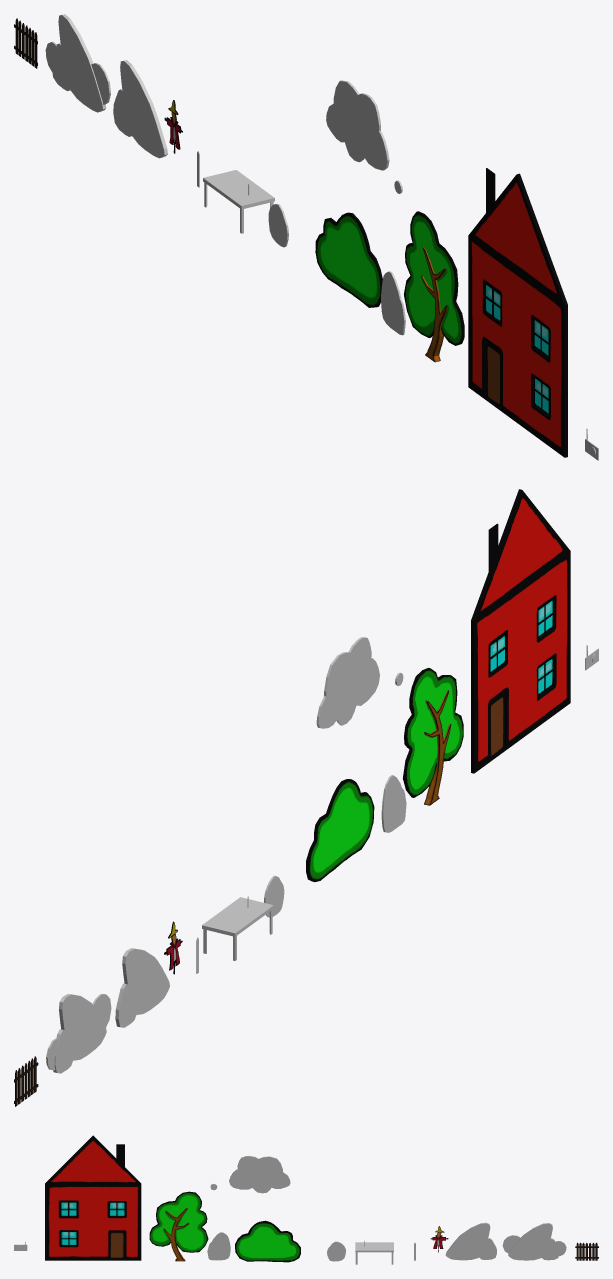
File: paper_world.fbx
3 views of the same model, one above another, from view 1: azimuth 30°, elevation 25°; view 2: azimuth 150°, elevation 25°; view 3: azimuth 270°, elevation 25° (orthographic). The views are drawn at different scales.
Parts seen in each view (by area): view 1: Plane.005, Plane.001, Plane.002, Plane.004, Rock_bush1, Stones_3, Cube.001, Plane.003, Cube, Plot, Plane.006; view 2: Plane.005, Plane.001, Plane.002, Plane.004, Rock_bush1, Stones_3, Cube.001, Plane.003, Cube, Plot; view 3: Plane.005, Plane.001, Plane.002, Plane.004, Rock_bush1, Stones_3, Plane.003, Cube.001, Cube, Plot, Plane.006, Plane.009.
Part boxes in pixels (x1=…): Plane.005: x1=468, y1=168, x2=567, y2=457; Plane.001: x1=404, y1=211, x2=464, y2=345; Plane.002: x1=315, y1=212, x2=382, y2=307; Plane.004: x1=326, y1=80, x2=389, y2=170; Rock_bush1: x1=45, y1=14, x2=110, y2=112; Stones_3: x1=113, y1=60, x2=167, y2=158; Cube.001: x1=203, y1=170, x2=274, y2=233; Plane.003: x1=381, y1=271, x2=405, y2=335; Cube: x1=421, y1=247, x2=448, y2=362; Plot: x1=14, y1=18, x2=37, y2=68; Plane.006: x1=268, y1=204, x2=288, y2=247; Plane.005: x1=471, y1=489, x2=570, y2=773; Plane.001: x1=402, y1=668, x2=463, y2=797; Plane.002: x1=306, y1=779, x2=374, y2=881; Plane.004: x1=316, y1=637, x2=379, y2=728; Rock_bush1: x1=46, y1=994, x2=111, y2=1073; Stones_3: x1=115, y1=948, x2=169, y2=1027; Cube.001: x1=202, y1=897, x2=273, y2=960; Plane.003: x1=381, y1=775, x2=406, y2=832; Cube: x1=424, y1=690, x2=451, y2=805; Plot: x1=14, y1=1056, x2=38, y2=1106; Plane.005: x1=45, y1=1135, x2=141, y2=1260; Plane.001: x1=149, y1=1191, x2=208, y2=1252; Plane.002: x1=235, y1=1220, x2=300, y2=1262; Plane.004: x1=229, y1=1156, x2=290, y2=1193; Rock_bush1: x1=502, y1=1223, x2=566, y2=1260; Stones_3: x1=445, y1=1222, x2=496, y2=1260; Plane.003: x1=207, y1=1232, x2=230, y2=1260; Cube.001: x1=355, y1=1242, x2=393, y2=1264; Cube: x1=163, y1=1208, x2=189, y2=1261; Plot: x1=575, y1=1242, x2=598, y2=1260; Plane.006: x1=327, y1=1241, x2=345, y2=1261; Plane.009: x1=430, y1=1226, x2=448, y2=1252.
Size of what is drawn, in the model's own units: 200 by 1428 by 6066.
